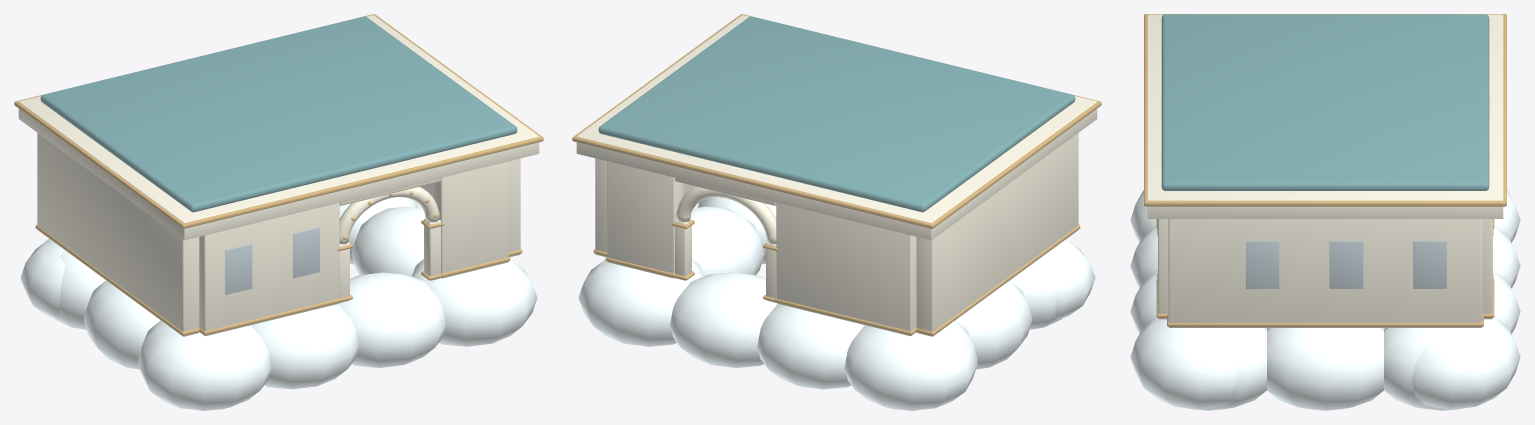
The model's file is sky_sector_observatory.glb.
The picture shows the model from 3 angles, left to right: view 1: azimuth 30°, elevation 25°; view 2: azimuth 150°, elevation 25°; view 3: azimuth 270°, elevation 25°; orthographic projection. The views are drawn at different scales.
Parts seen in each view (by area): view 1: sky_sector_observatory_surface; view 2: sky_sector_observatory_surface; view 3: sky_sector_observatory_surface.
Part boxes in pixels (bbox=[...]): sky_sector_observatory_surface: bbox=[14, 14, 543, 410]; sky_sector_observatory_surface: bbox=[572, 14, 1101, 410]; sky_sector_observatory_surface: bbox=[1130, 14, 1520, 410].
Bounding box in the file's own units: 22.68 × 12.43 × 18.64.
